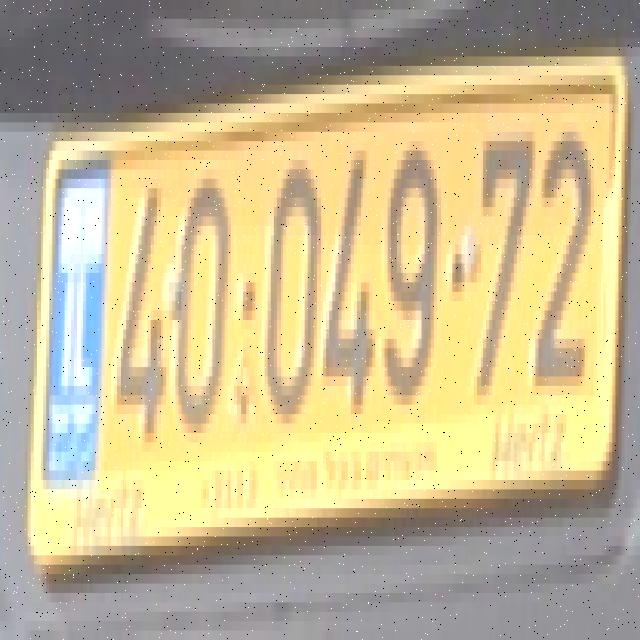licenseplate: (16, 36, 636, 584)
